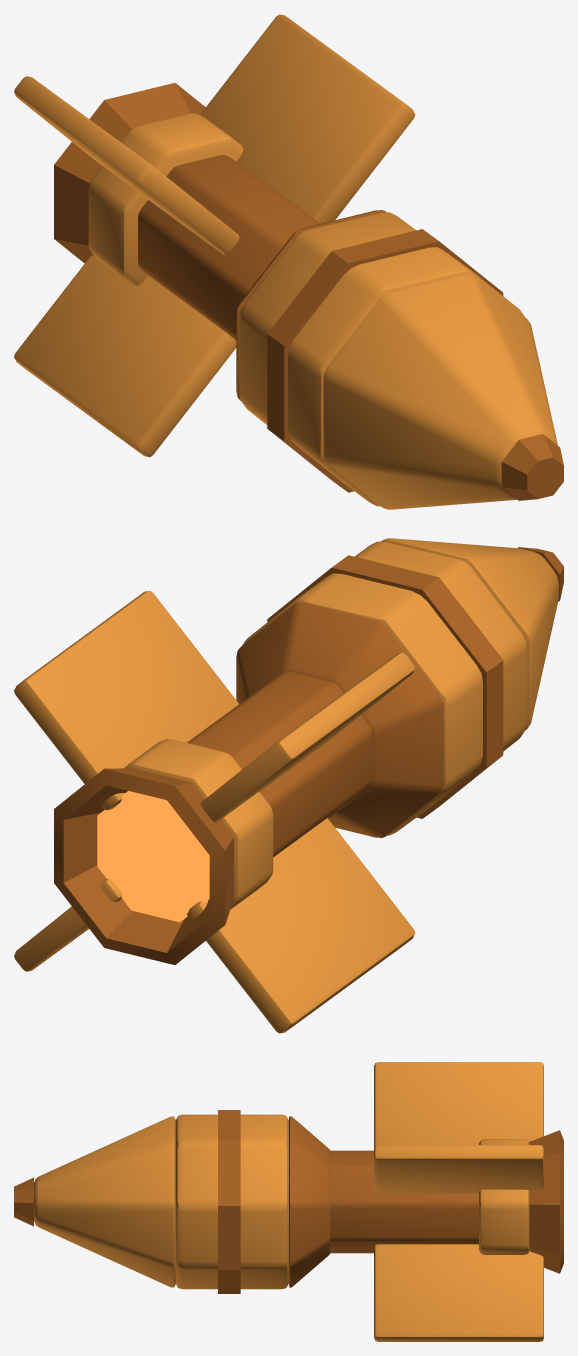
The model's file is bazooka_rocket.glb.
3 renders of one model, top to bottom at view 1: azimuth 30°, elevation 25°; view 2: azimuth 150°, elevation 25°; view 3: azimuth 270°, elevation 25°, orthographic. The views are drawn at different scales.
Parts seen in each view (by area): view 1: BazookaRocket; view 2: BazookaRocket; view 3: BazookaRocket.
Boxes of the visible parts, x1=… form: BazookaRocket: x1=14, y1=14, x2=563, y2=509; BazookaRocket: x1=14, y1=538, x2=563, y2=1033; BazookaRocket: x1=14, y1=1062, x2=563, y2=1341.
Bounding box in the file's own units: 0.7654 × 0.7654 × 1.94.
